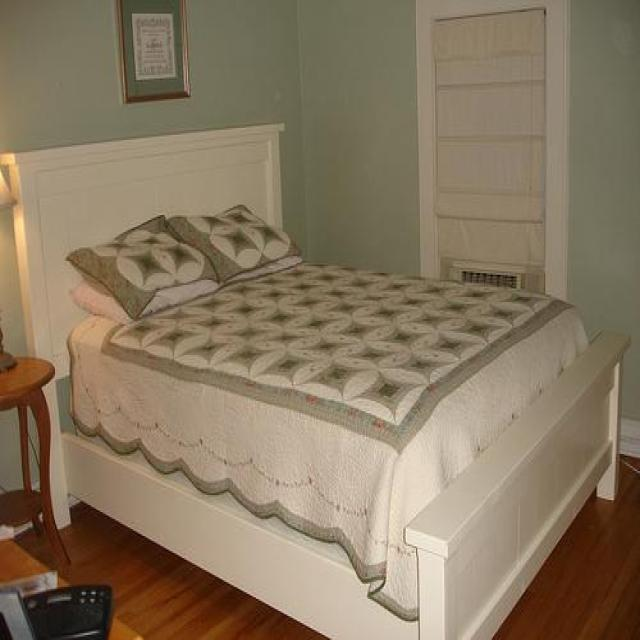bed: (0, 120, 630, 638)
